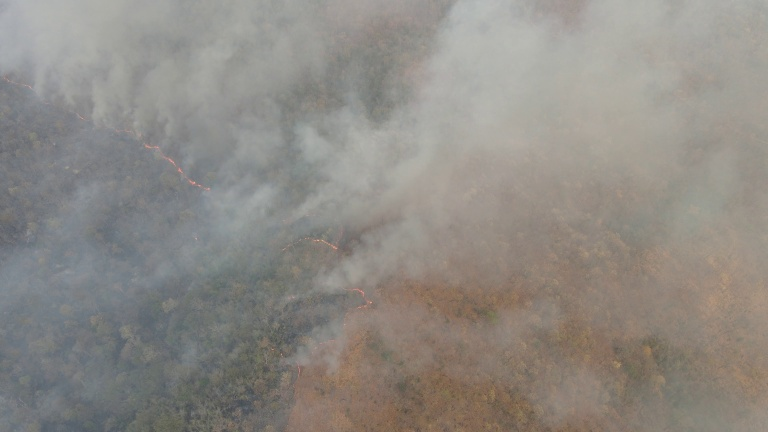fire: (1, 74, 117, 130), (122, 130, 218, 197), (334, 279, 382, 335), (271, 230, 351, 261), (281, 338, 325, 394)
smoke: (347, 10, 731, 274), (43, 1, 402, 222)
